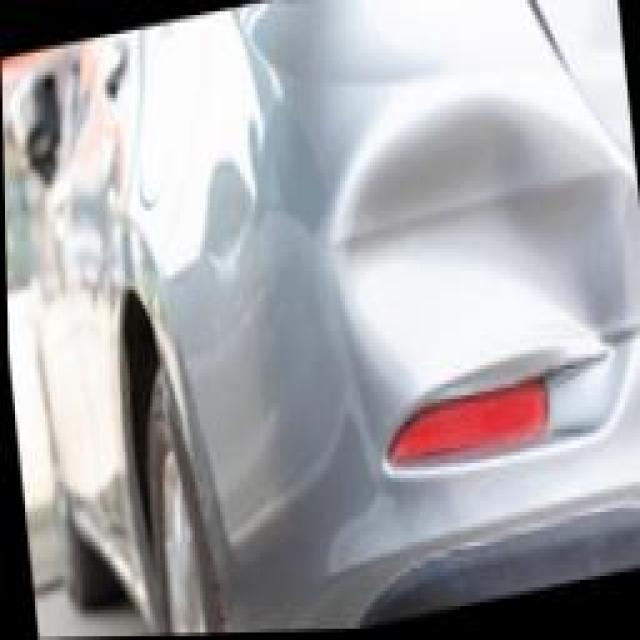Bumper: (306, 37, 640, 482)
